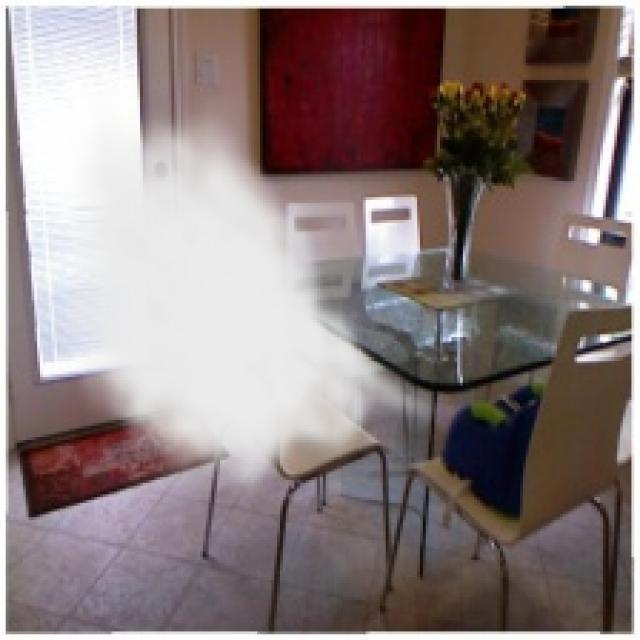Smoke: (51, 91, 446, 503)
